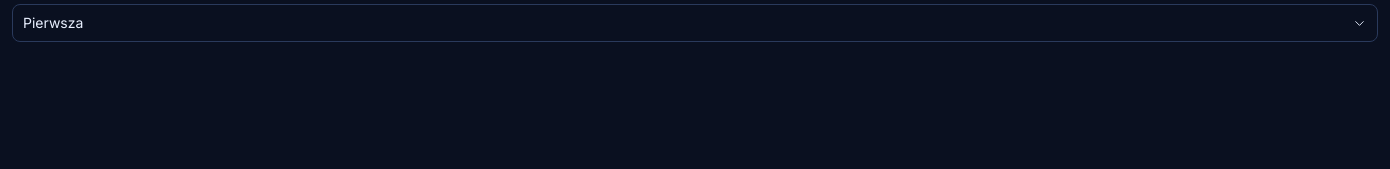
Select › wybór opcji zgłasza wartość i zamyka listę
Click the button with aria-label "Wybór".
click(53, 22)  # box x1=12 y1=4 x2=1378 y2=42
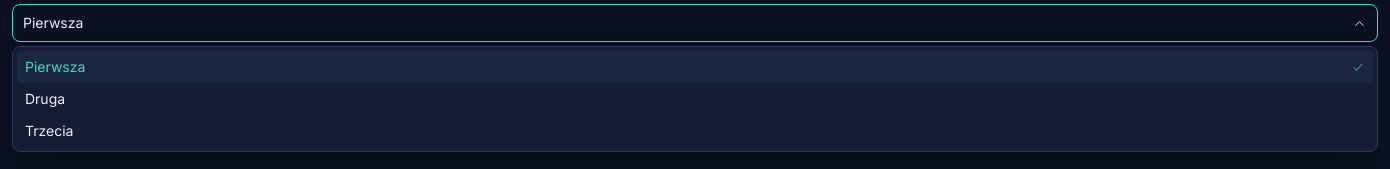
Click the option "Trzecia".
click(49, 130)  # box x1=17 y1=115 x2=1373 y2=147
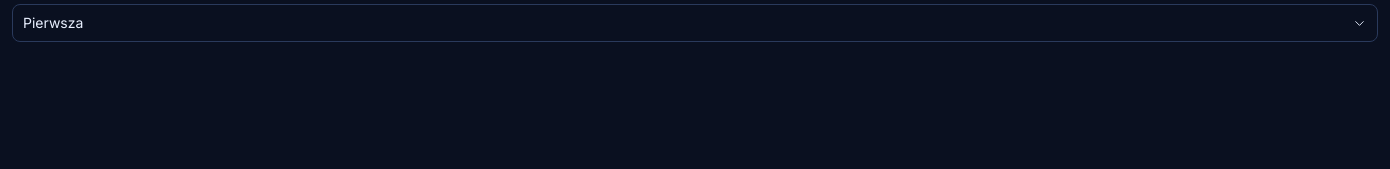
Now the list is gone
